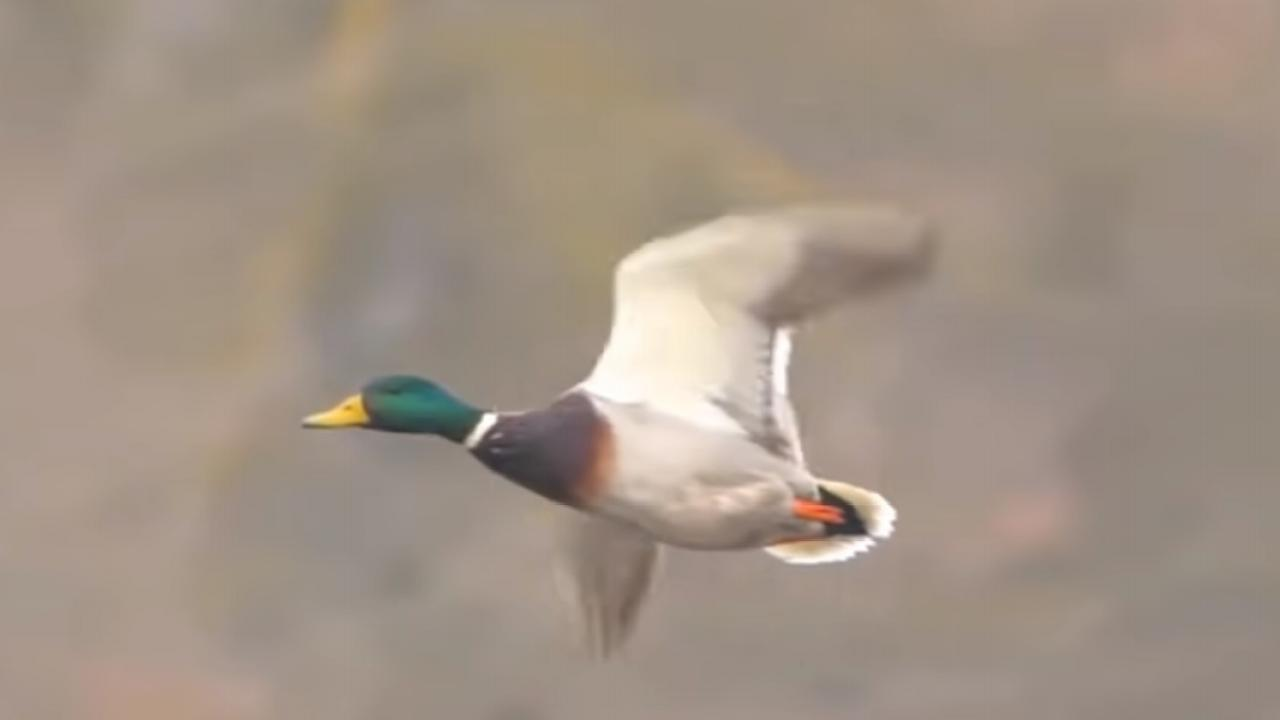Bird: (287, 186, 960, 669)
